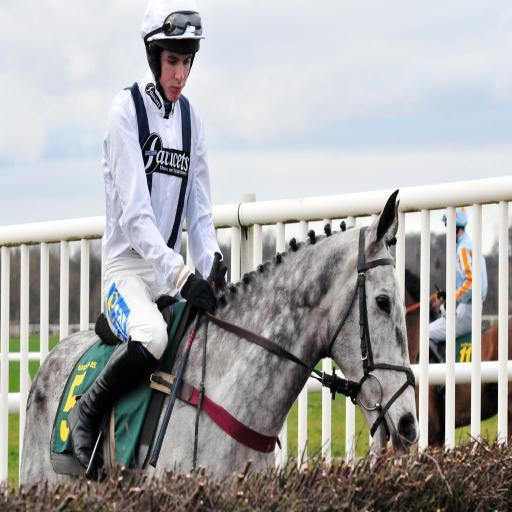horse: (18, 181, 422, 492), (401, 268, 512, 450)
